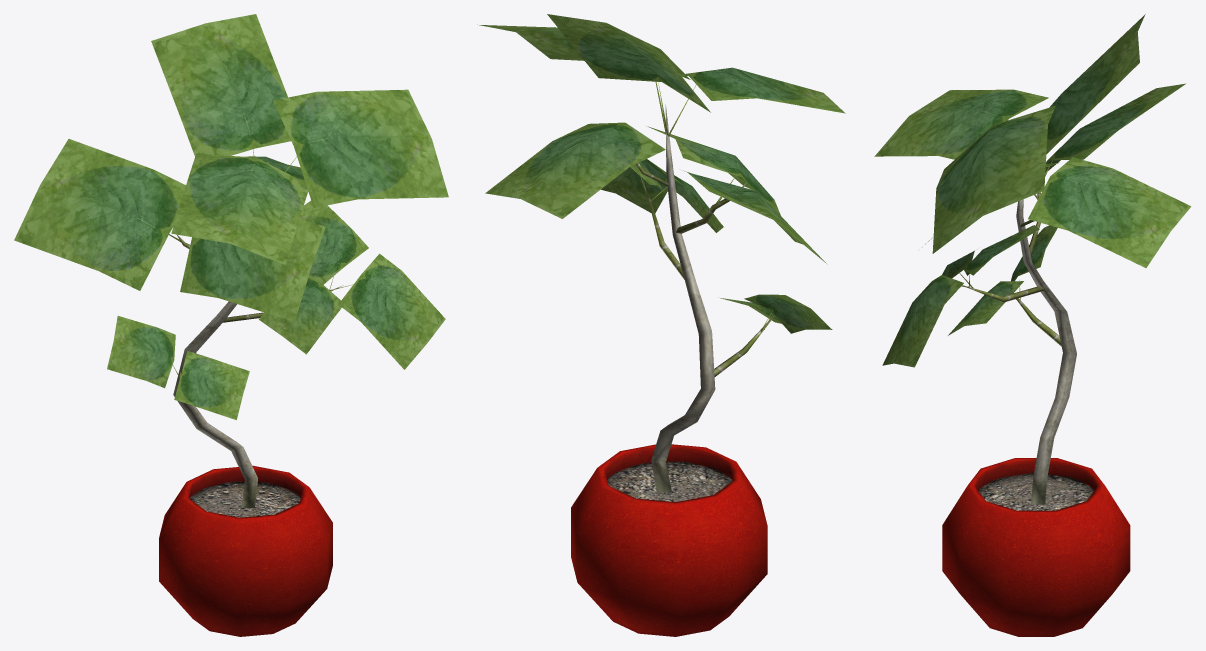
Rendered from Furniture_foliageplant_06b_LOD1 #39151.fbx.
3 views of the same model, side by side, from view 1: azimuth 30°, elevation 25°; view 2: azimuth 150°, elevation 25°; view 3: azimuth 270°, elevation 25° (orthographic). The views are drawn at different scales.
Visible parts, largest first — view 1: F_foliageplant_06b_m1, F_foliageplant_06b_m; view 2: F_foliageplant_06b_m, F_foliageplant_06b_m1; view 3: F_foliageplant_06b_m1, F_foliageplant_06b_m.
Part boxes in pixels (left/top/right/bottom): F_foliageplant_06b_m1: left=14, top=14, right=448, bottom=419; F_foliageplant_06b_m: left=159, top=234, right=343, bottom=636; F_foliageplant_06b_m: left=571, top=104, right=774, bottom=636; F_foliageplant_06b_m1: left=477, top=14, right=845, bottom=333; F_foliageplant_06b_m1: left=874, top=14, right=1191, bottom=367; F_foliageplant_06b_m: left=942, top=192, right=1130, bottom=636.
Size of the model in its own units: 0.5248 by 0.7884 by 0.3867.
Materials: 2 (2 with a texture image).
